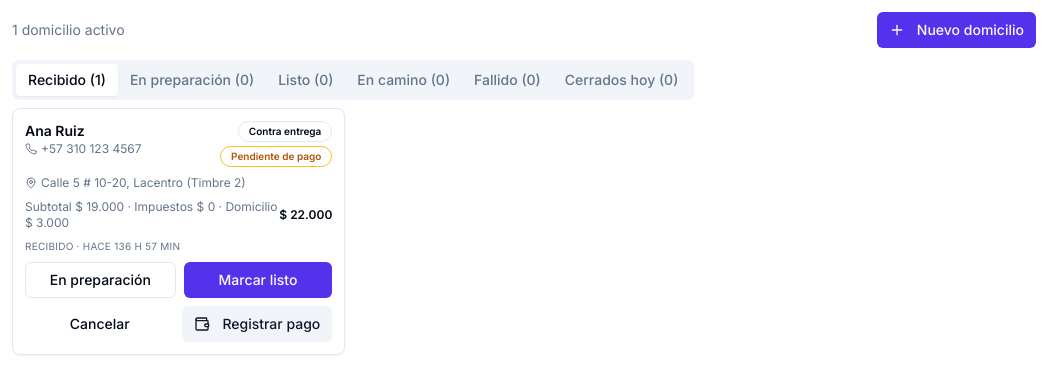
Test: DeliveryBoard — one reload per card action › patches the card from the RPC result and does not refetch the board
This screenshot has width=1048, height=372.
Expected: the text "Ana Ruiz" is shown, [25, 122, 85, 139]
Click the button "En preparación" at [100, 280], box [25, 262, 176, 298]
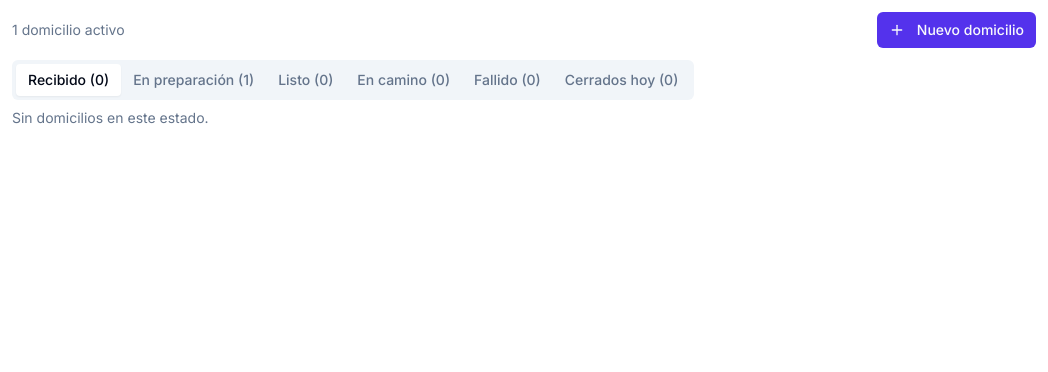
Expected: the tab "En preparación (1)" is shown, [121, 64, 266, 96]
Expected: the tab "Recibido (0)" is shown, [16, 64, 121, 96]
